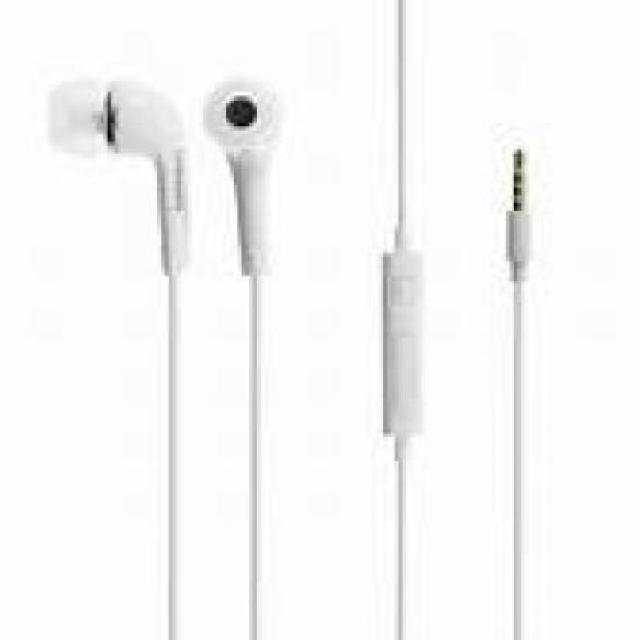earphone: (35, 47, 355, 640)
